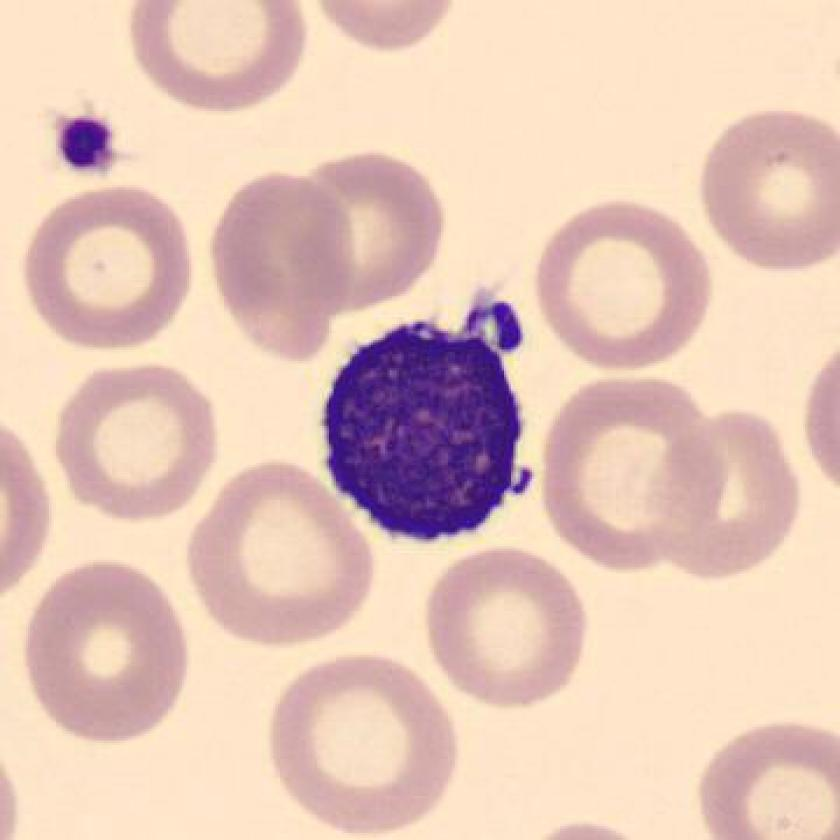lymphocyte: (302, 276, 552, 552)
